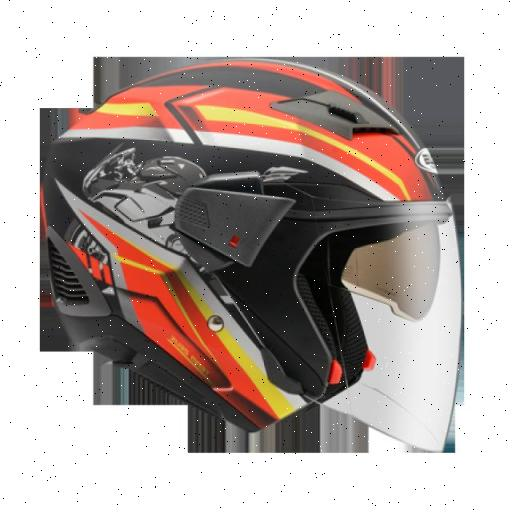Helmet: (41, 55, 468, 457)
